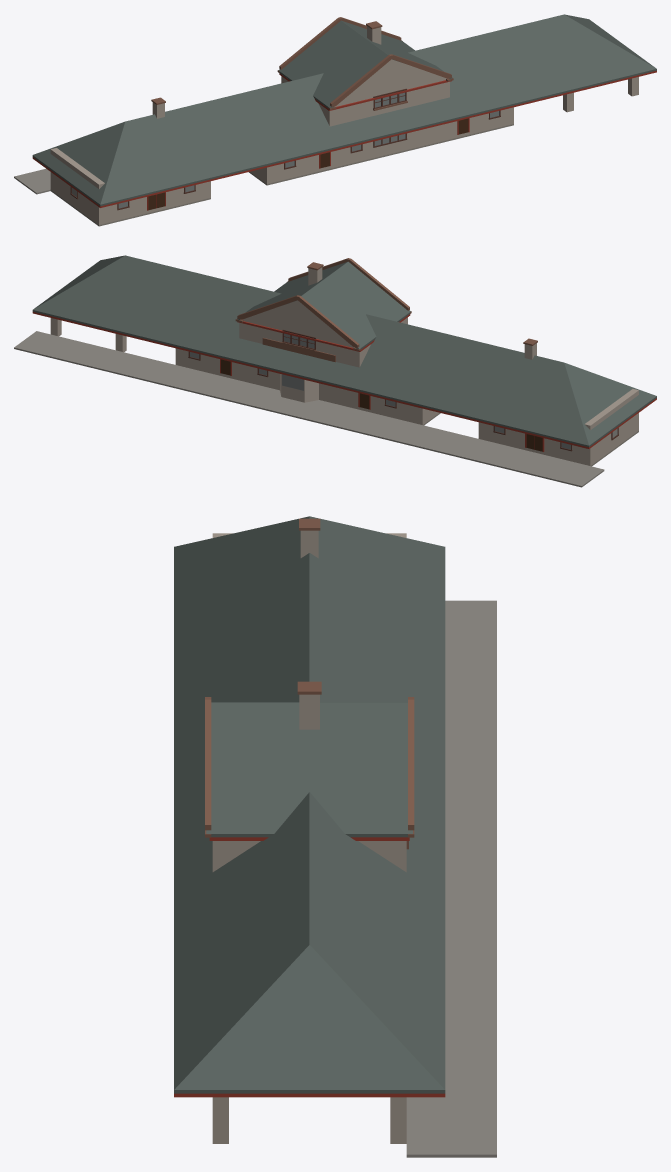
Rendered from Oconomowoc_Depot.glb.
The picture shows the model from 3 angles, top to bottom: view 1: azimuth 30°, elevation 25°; view 2: azimuth 150°, elevation 25°; view 3: azimuth 270°, elevation 25°; orthographic projection. The views are drawn at different scales.
Parts seen in each view (by area): view 1: roof, stone, trim, brick, foundation, sash, platform, glass, doors; view 2: roof, platform, stone, brick, trim, glass, doors, sash; view 3: roof, platform, stone, brick, trim.
Part boxes in pixels (box(x1,y1,x2,y2)): roof: box(32, 14, 656, 206); stone: box(50, 26, 638, 224); trim: box(32, 70, 656, 210); brick: box(151, 17, 453, 110); foundation: box(50, 124, 513, 226); sash: box(70, 88, 500, 210); platform: box(14, 168, 50, 194); glass: box(72, 93, 499, 208); doors: box(148, 118, 468, 210); roof: box(32, 255, 656, 447); platform: box(14, 331, 604, 487); stone: box(50, 267, 638, 465); brick: box(235, 258, 537, 362); trim: box(32, 312, 656, 451); glass: box(190, 334, 617, 449); doors: box(221, 359, 542, 451); sash: box(188, 329, 618, 451); roof: box(174, 516, 445, 1093); platform: box(406, 600, 496, 1157); stone: box(212, 530, 406, 1143); brick: box(205, 518, 414, 849); trim: box(174, 837, 445, 1097).
Bounding box in the file's own units: 2.13 × 0.3994 × 0.5256.
